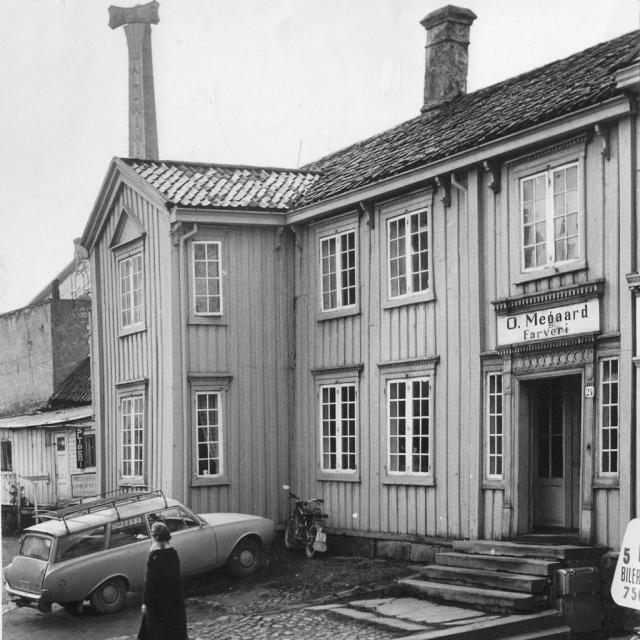car: (7, 498, 272, 618)
